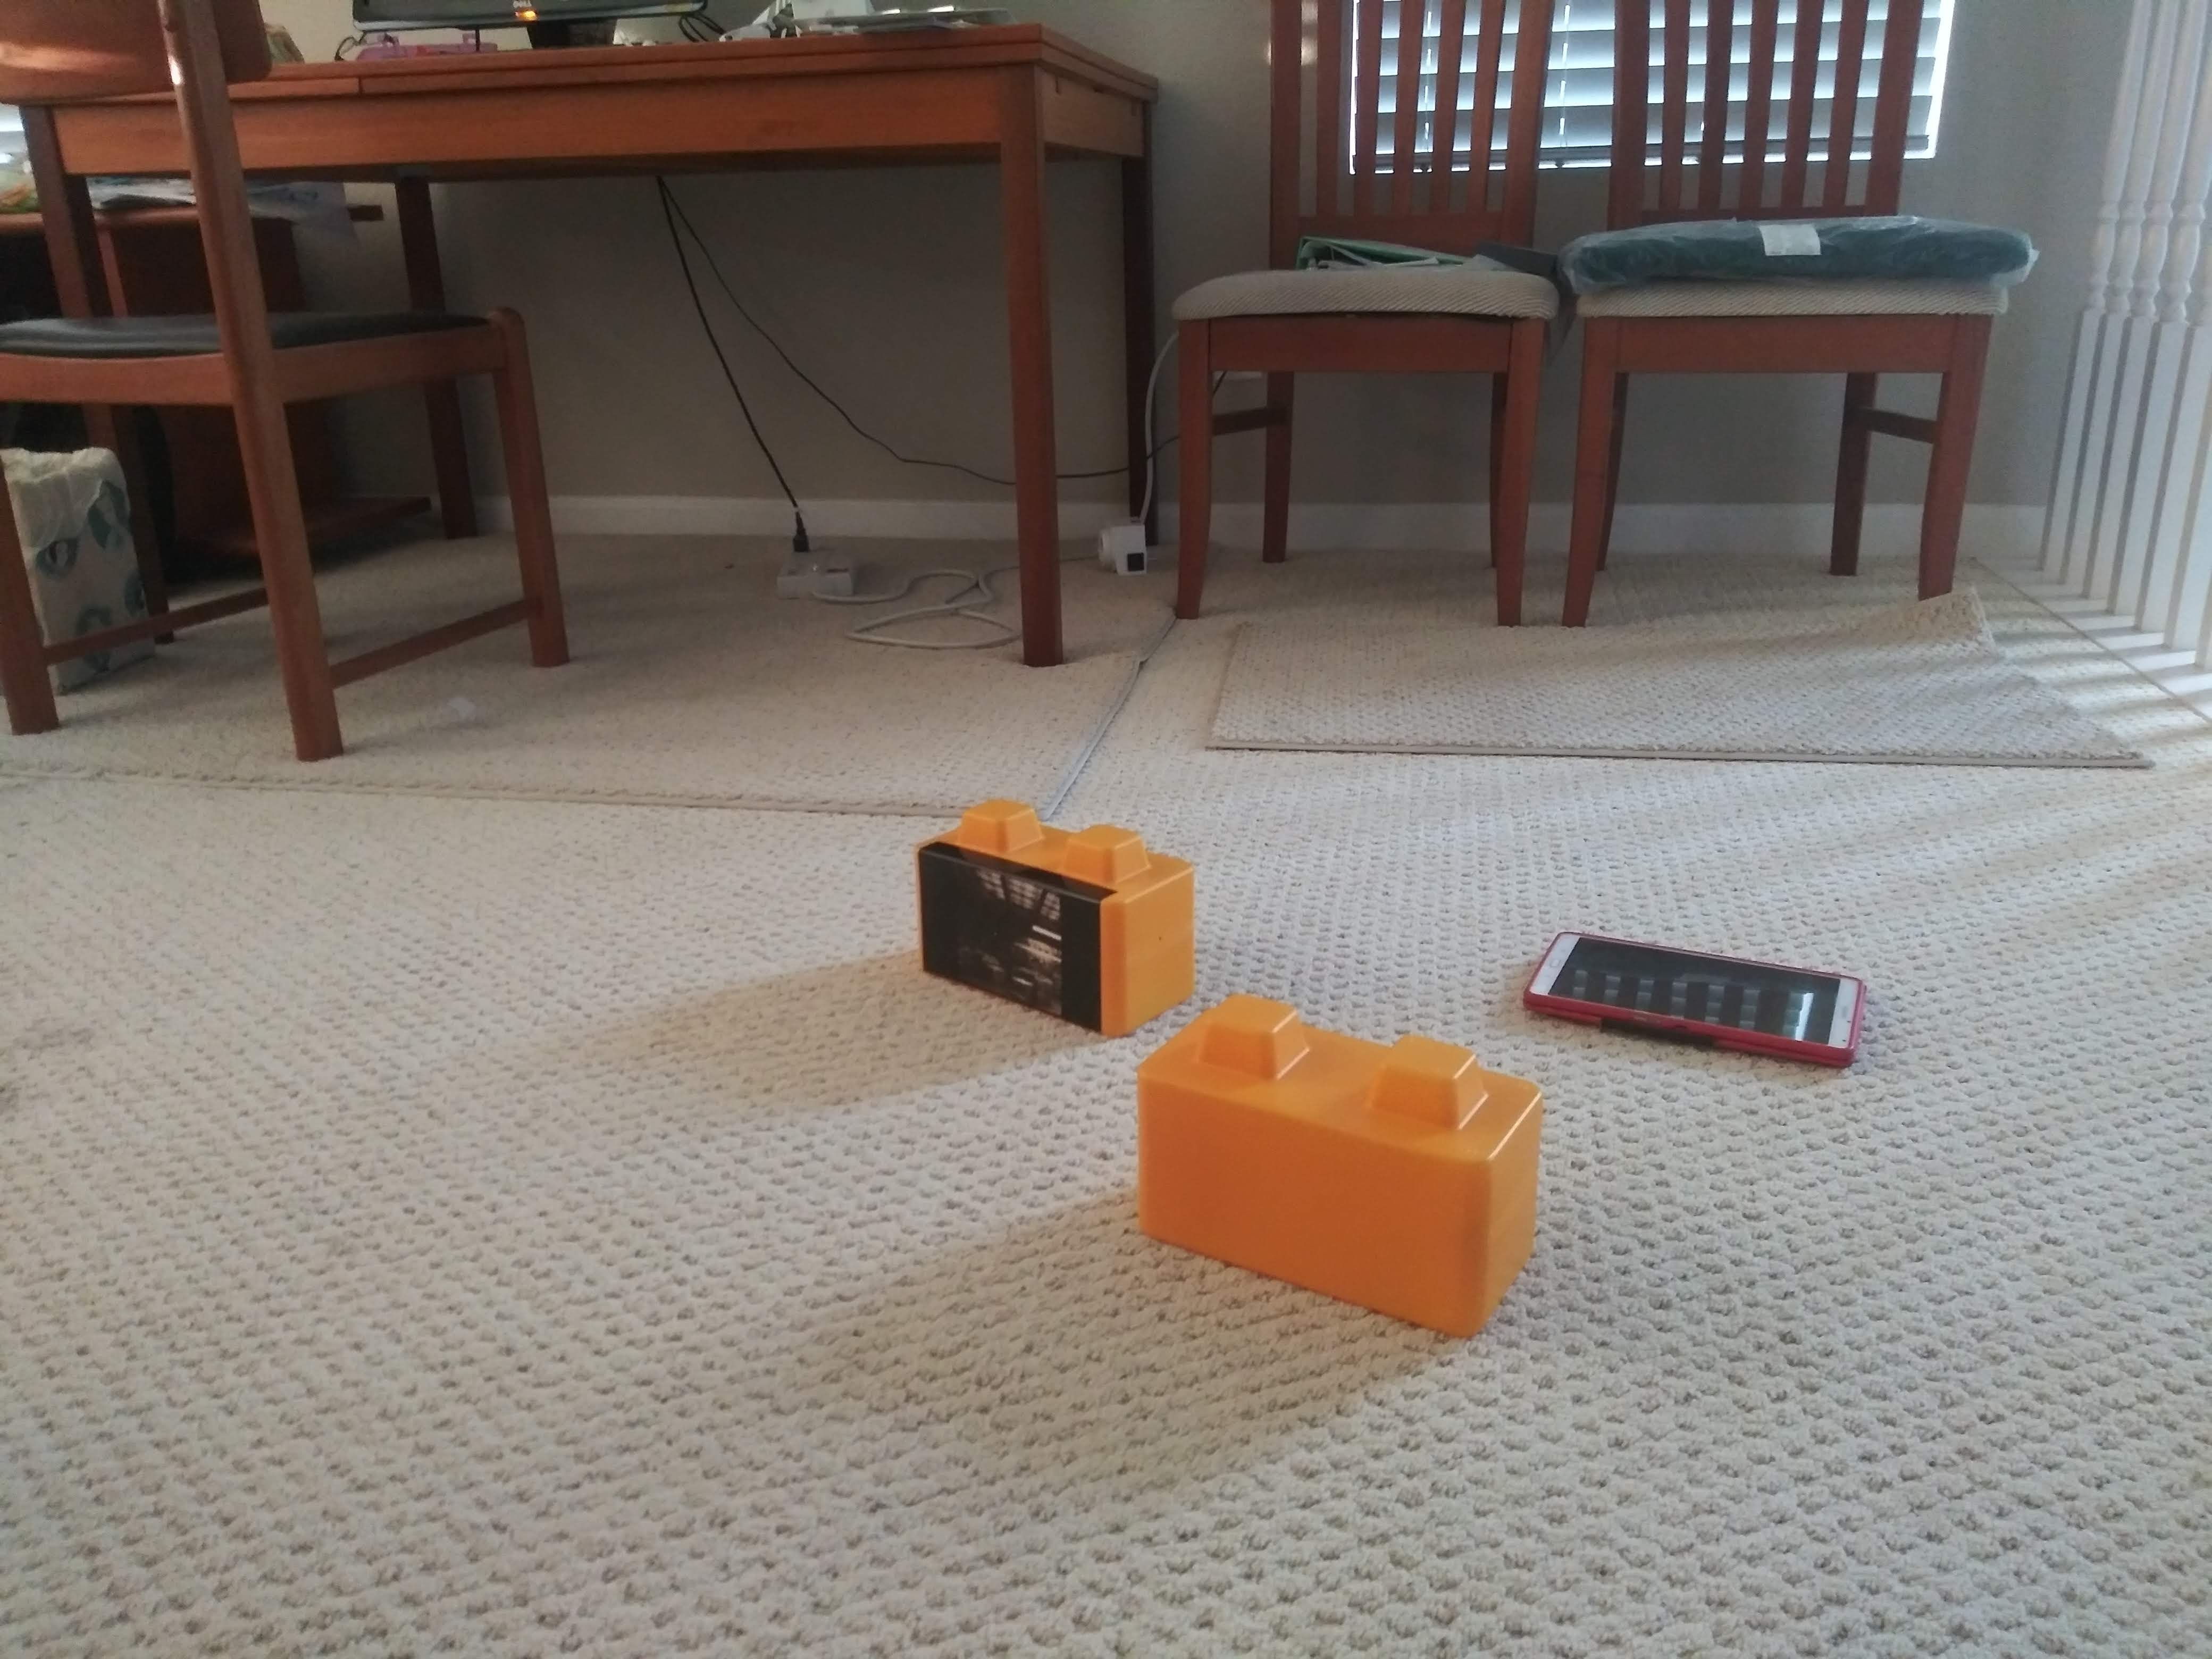skystone: (913, 807, 1188, 1033)
stone: (1150, 1025, 1534, 1326)
